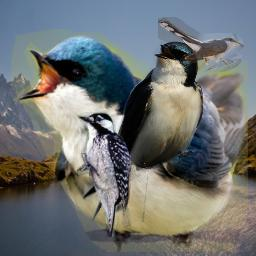Cuckoo: (158, 17, 244, 72)
Swallow: (11, 29, 248, 252), (82, 41, 203, 222)
Woodpecker: (77, 112, 131, 237)
